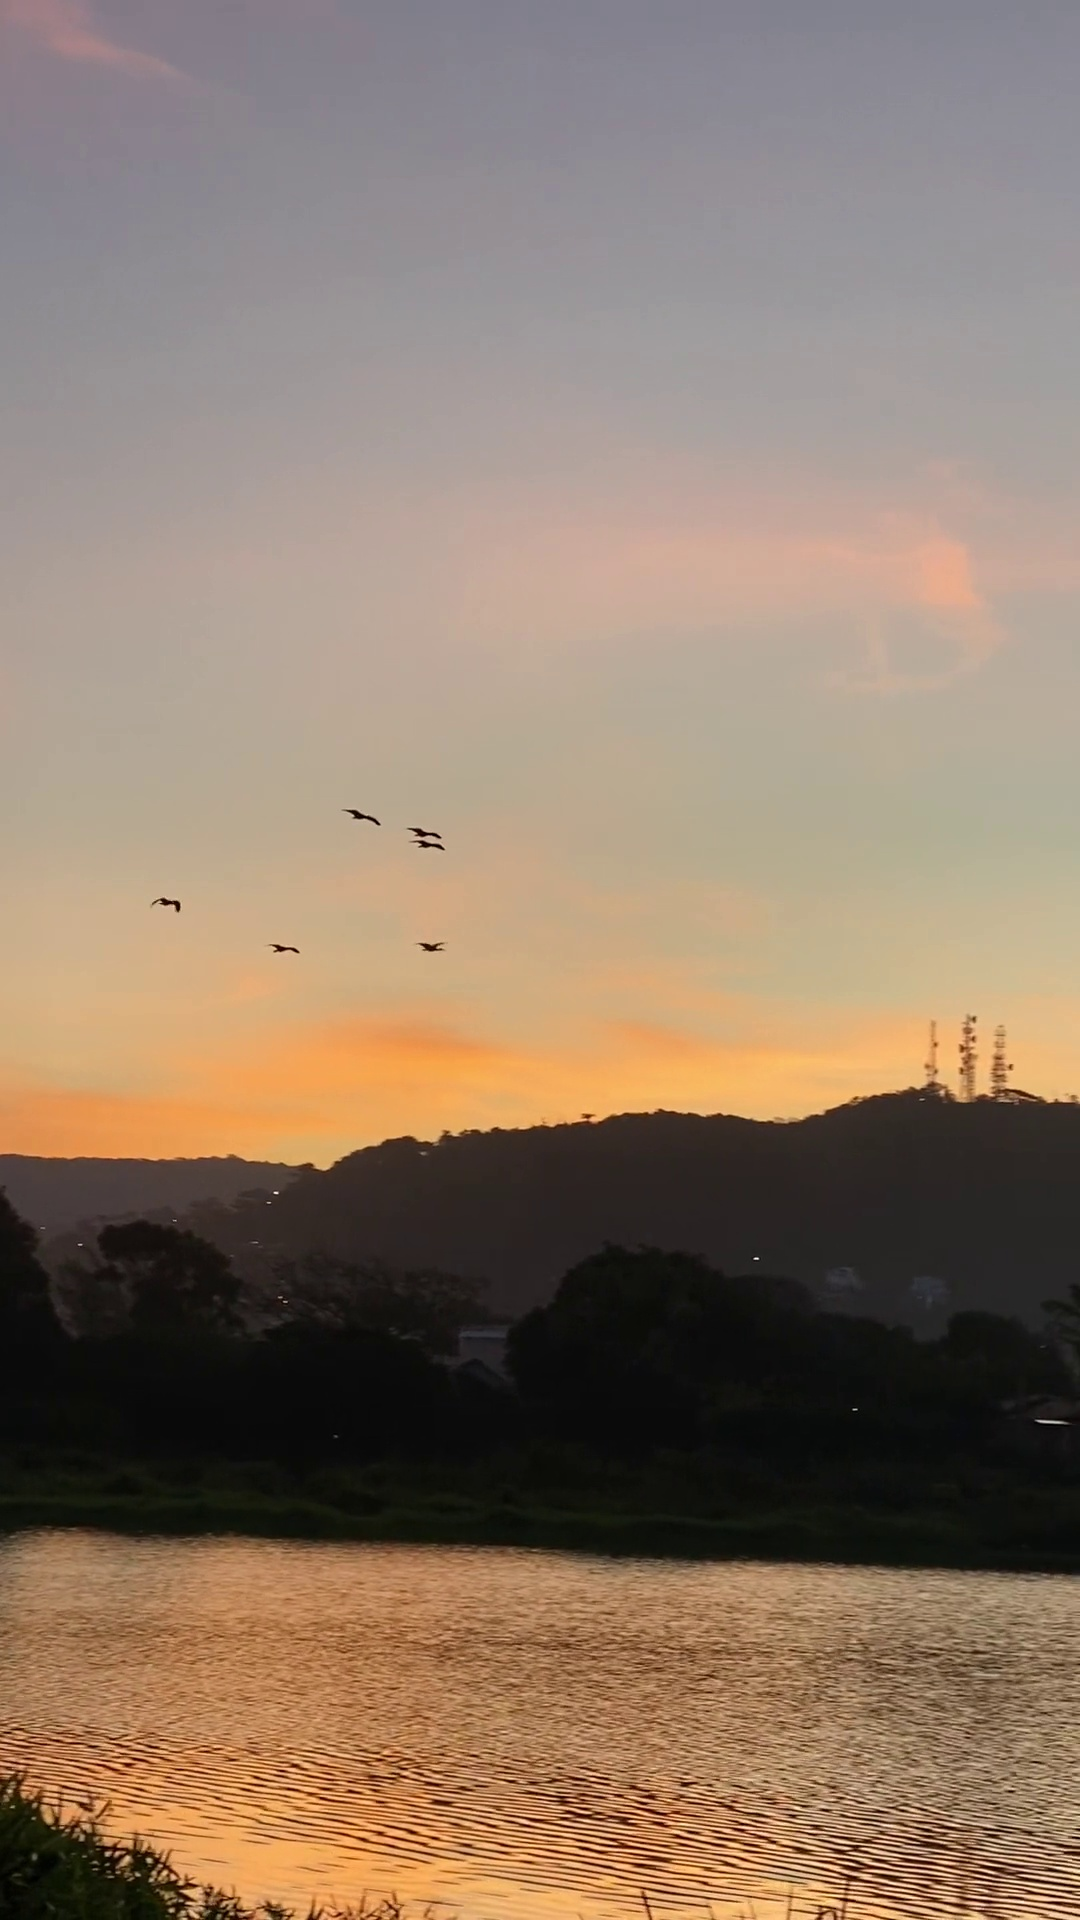bird: (342, 808, 378, 827), (150, 895, 181, 913), (410, 839, 444, 852), (407, 825, 443, 837), (266, 943, 299, 953), (414, 940, 446, 949)
